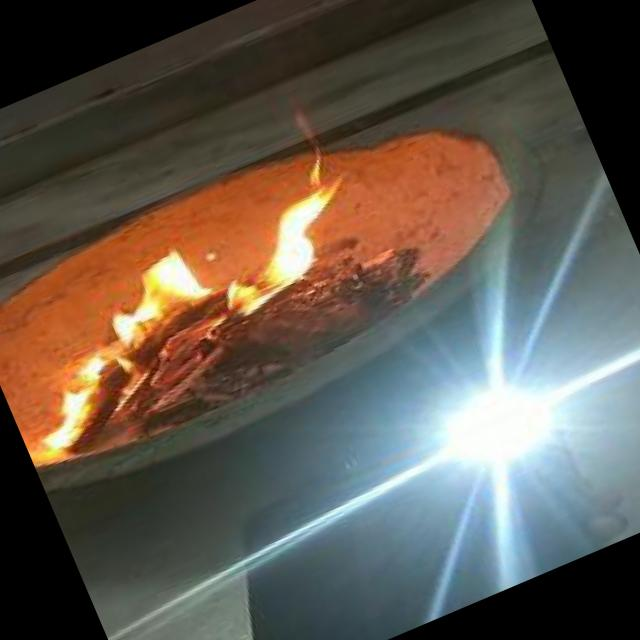fire: (0, 150, 414, 471)
